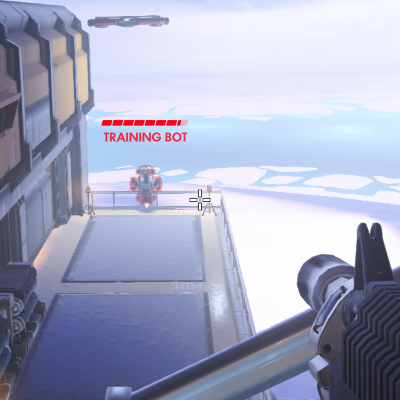hpbar: (101, 119, 189, 127)
